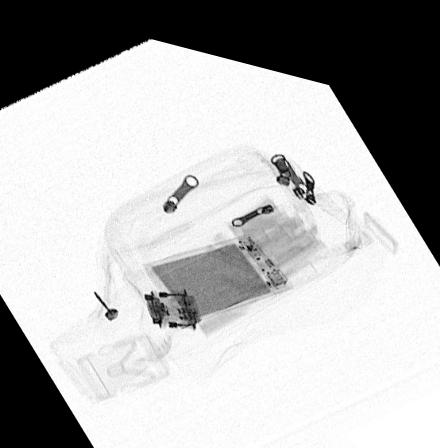Powerbank: (141, 218, 296, 318)
